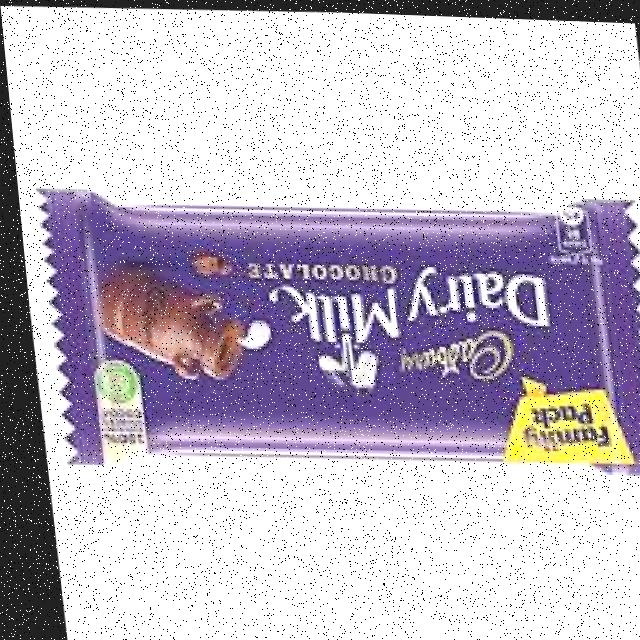cadbury: (30, 175, 640, 481)
